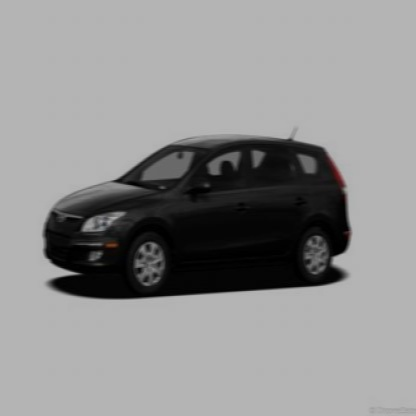Vehicle: (40, 121, 355, 292)
